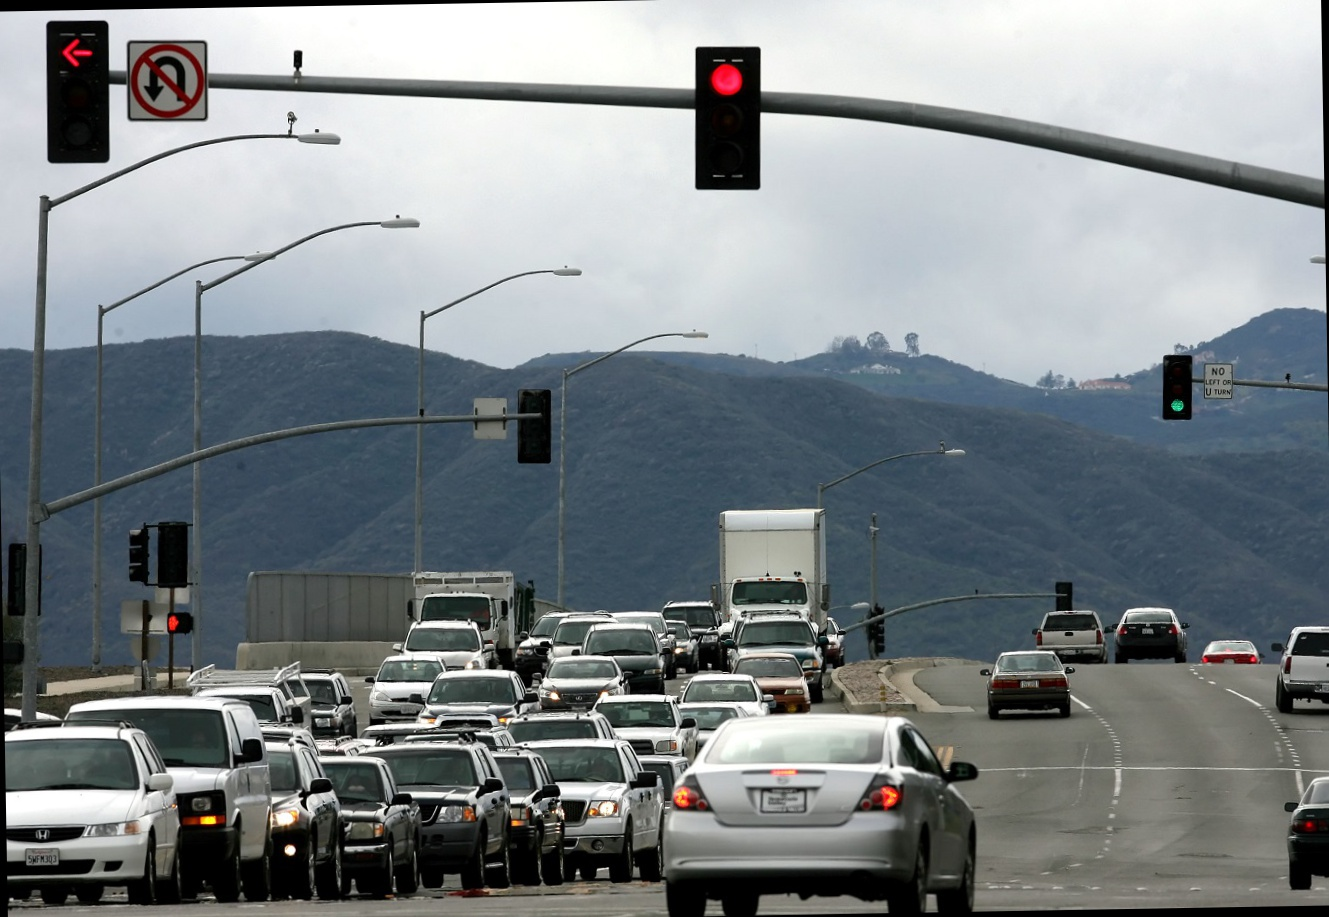traffic_light: (693, 45, 763, 193), (43, 18, 113, 166), (1160, 353, 1195, 422)
